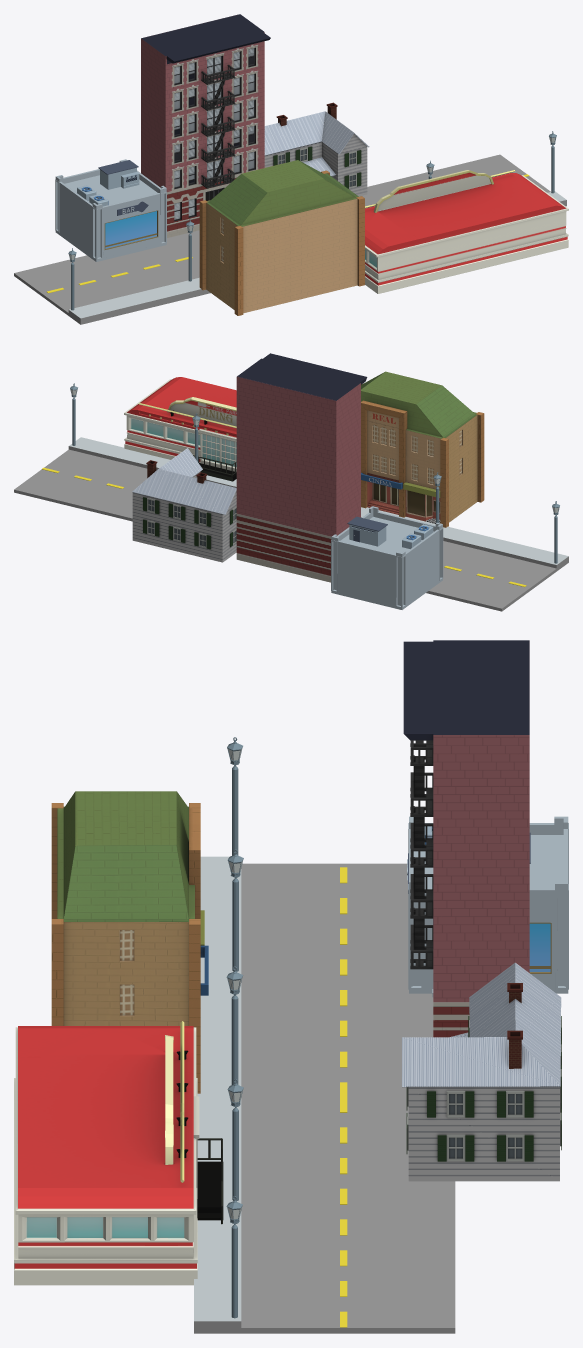
File: town1.obj
3 views of the same model, one above another, from view 1: azimuth 30°, elevation 25°; view 2: azimuth 150°, elevation 25°; view 3: azimuth 270°, elevation 25° (orthographic). The views are drawn at different scales.
Visible parts, largest first — view 1: Apartment:Apartment_mesh group3, Cinema:Cinema_mesh group7, Diner:Diner_mesh group2, group5 Mesh, CUPIC_BAR:Mesh group6, FarmHouse1:FarmHouse_Mesh group1, model:Mesh group5; view 2: Apartment:Apartment_mesh group3, Cinema:Cinema_mesh group7, CUPIC_BAR:Mesh group6, FarmHouse1:FarmHouse_Mesh group1, Diner:Diner_mesh group2, group5 Mesh, model:Mesh group5; view 3: model:Mesh group5, group5 Mesh, Diner:Diner_mesh group2, Apartment:Apartment_mesh group3, Cinema:Cinema_mesh group7, FarmHouse1:FarmHouse_Mesh group1, CUPIC_BAR:Mesh group6.
Boxes of the visible parts, x1,y1,x2,y2 form: Apartment:Apartment_mesh group3: (141,14,270,237); Cinema:Cinema_mesh group7: (199,160,364,315); Diner:Diner_mesh group2: (365,170,568,293); group5 Mesh: (14,219,210,324); CUPIC_BAR:Mesh group6: (55,159,166,261); FarmHouse1:FarmHouse_Mesh group1: (264,102,369,196); model:Mesh group5: (359,131,566,208); Apartment:Apartment_mesh group3: (236,353,367,582); Cinema:Cinema_mesh group7: (361,371,484,527); CUPIC_BAR:Mesh group6: (331,506,443,609); FarmHouse1:FarmHouse_Mesh group1: (132,448,236,562); Diner:Diner_mesh group2: (124,377,236,481); group5 Mesh: (361,472,568,611); model:Mesh group5: (14,383,236,521); model:Mesh group5: (194,966,455,1333); group5 Mesh: (200,737,433,1098); Diner:Diner_mesh group2: (14,1021,223,1285); Apartment:Apartment_mesh group3: (403,640,529,1037); Cinema:Cinema_mesh group7: (51,791,208,1093); FarmHouse1:FarmHouse_Mesh group1: (402,962,561,1181); CUPIC_BAR:Mesh group6: (407,816,568,997).
Size of the model in its own units: 50.66 by 18.68 by 25.51.
12 materials, 5 textured.
